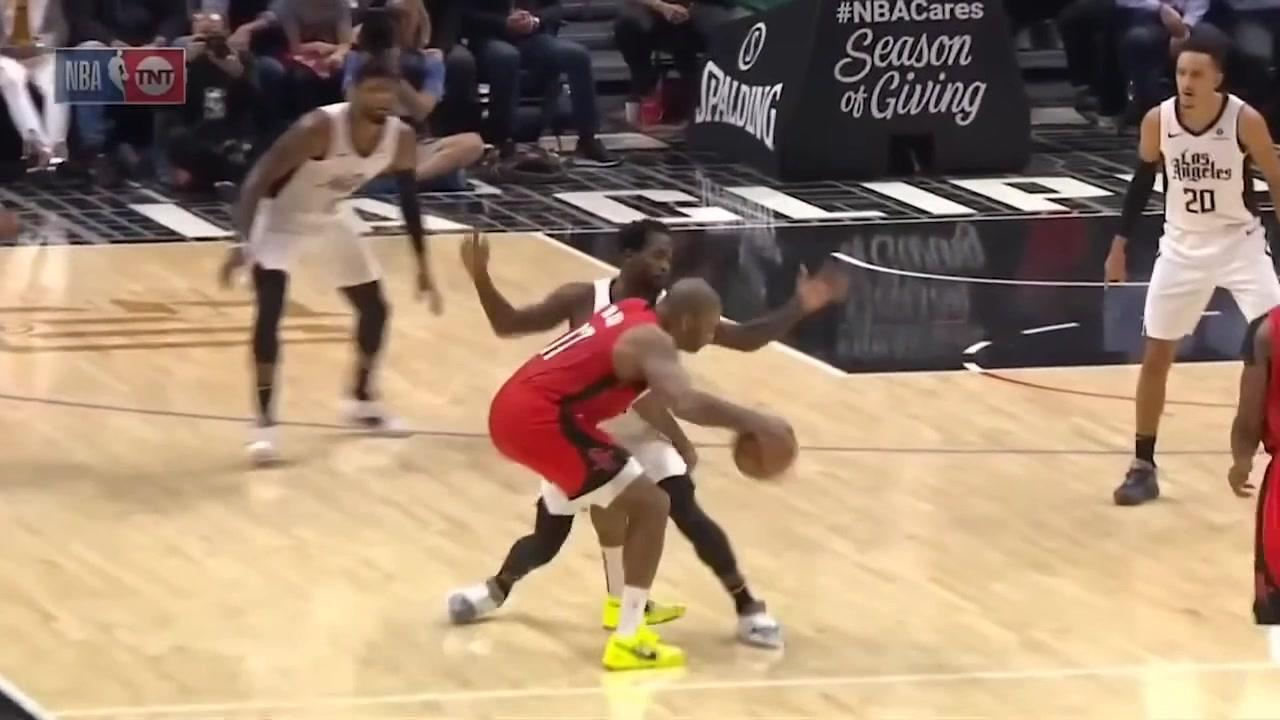no_foul: (403, 213, 836, 684)
